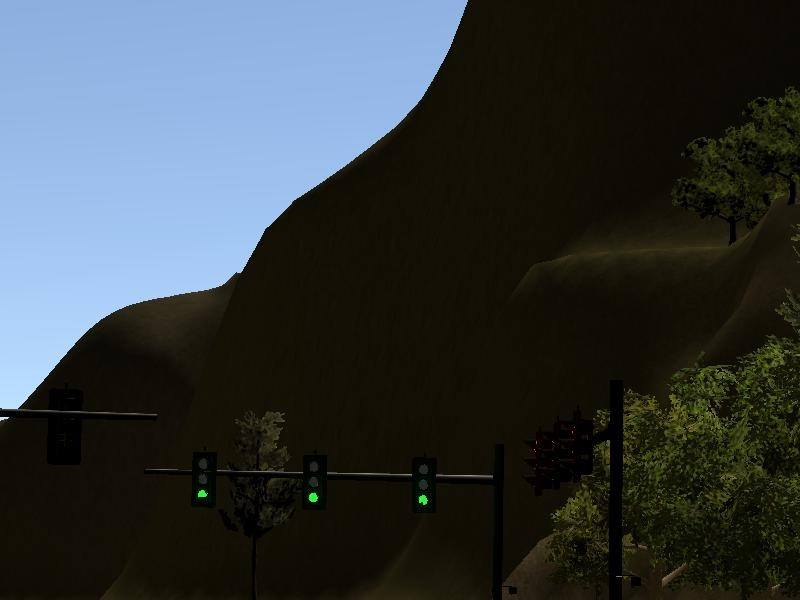green: (192, 452, 217, 507), (303, 455, 327, 510), (414, 458, 435, 514)
